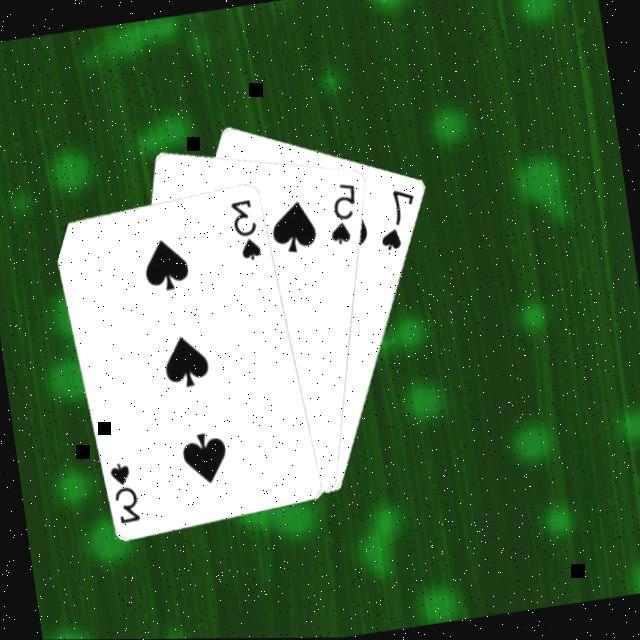3S: (228, 196, 267, 266), (108, 459, 146, 529)
5S: (322, 180, 367, 250)
7S: (373, 186, 427, 256)
